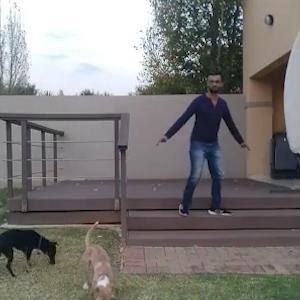land: (172, 71, 241, 225)
